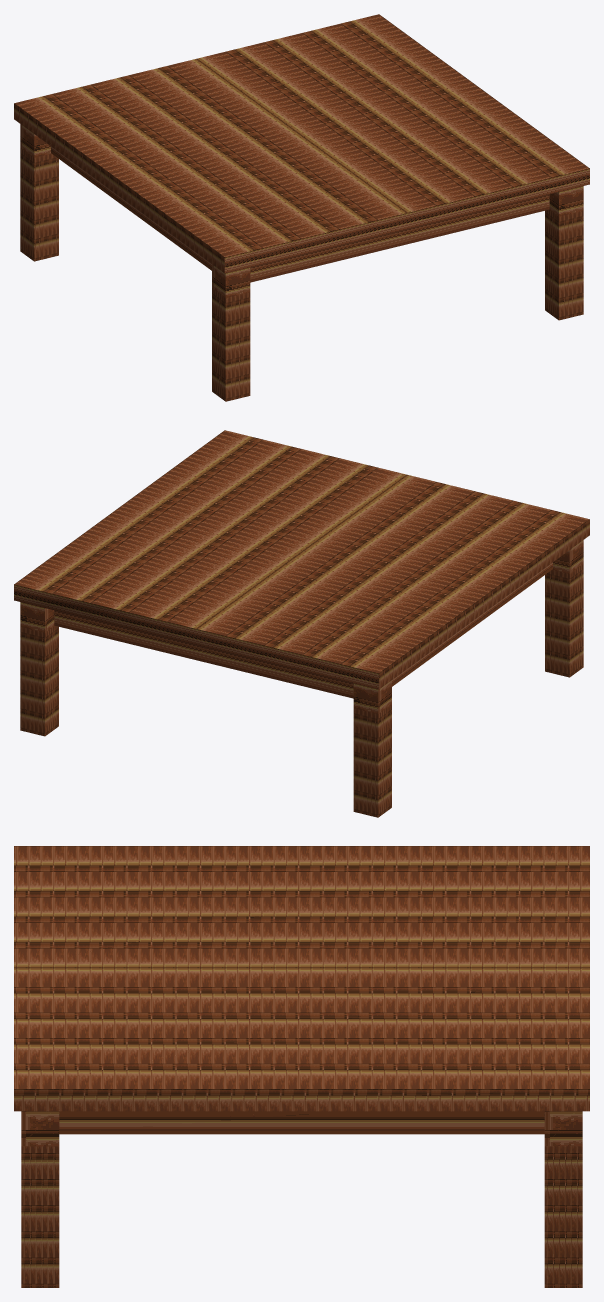
3 views of the same model, one above another, from view 1: azimuth 30°, elevation 25°; view 2: azimuth 150°, elevation 25°; view 3: azimuth 270°, elevation 25° (orthographic). The views are drawn at different scales.
Visible parts, largest first — view 1: 3602kg_13_ta0; view 2: 3602kg_13_ta0; view 3: 3602kg_13_ta0.
Part boxes in pixels (x1,y1,x2,y2): 3602kg_13_ta0: [14, 14, 589, 401]; 3602kg_13_ta0: [14, 430, 589, 817]; 3602kg_13_ta0: [14, 846, 589, 1287].
Bounding box in the file's own units: 1.95 × 0.75 × 1.95.
1 material, 1 textured.
